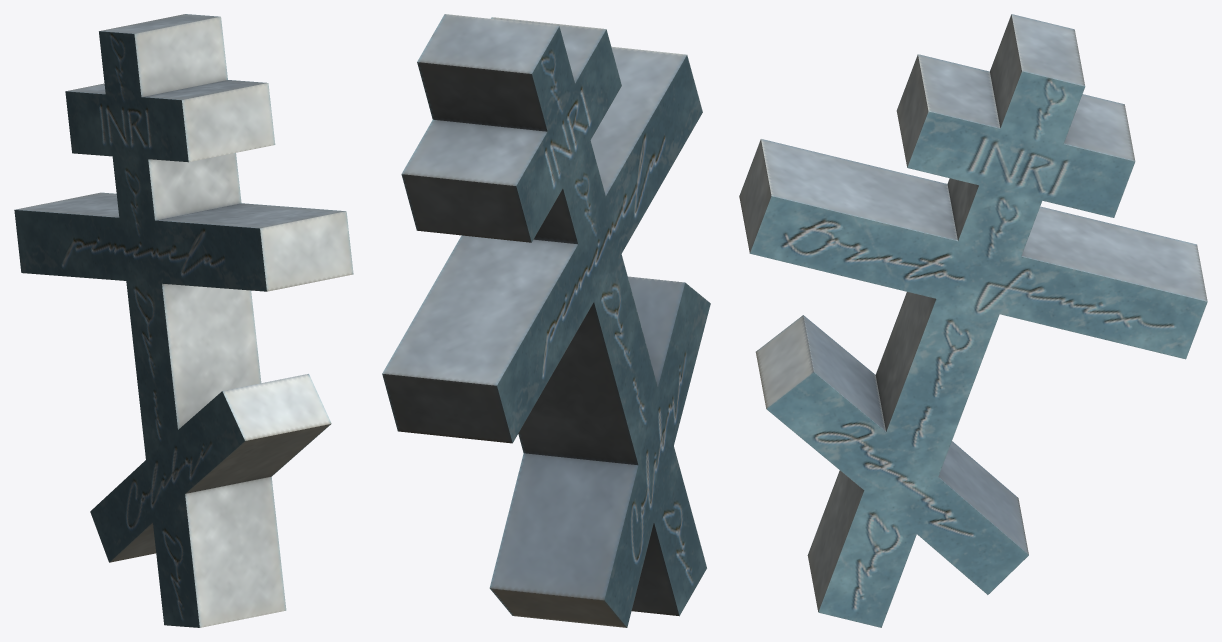
3 renders of one model, left to right at view 1: azimuth 30°, elevation 25°; view 2: azimuth 150°, elevation 25°; view 3: azimuth 270°, elevation 25°, orthographic. The views are drawn at different scales.
Parts seen in each view (by area): view 1: Cruz_Orto_Cube.011; view 2: Cruz_Orto_Cube.011; view 3: Cruz_Orto_Cube.011.
Boxes of the visible parts, bbox=[...] form: Cruz_Orto_Cube.011: bbox=[14, 14, 353, 627]; Cruz_Orto_Cube.011: bbox=[382, 14, 710, 627]; Cruz_Orto_Cube.011: bbox=[739, 14, 1207, 627].
Size of the model in its own units: 0.7359 by 2.69 by 1.96.
